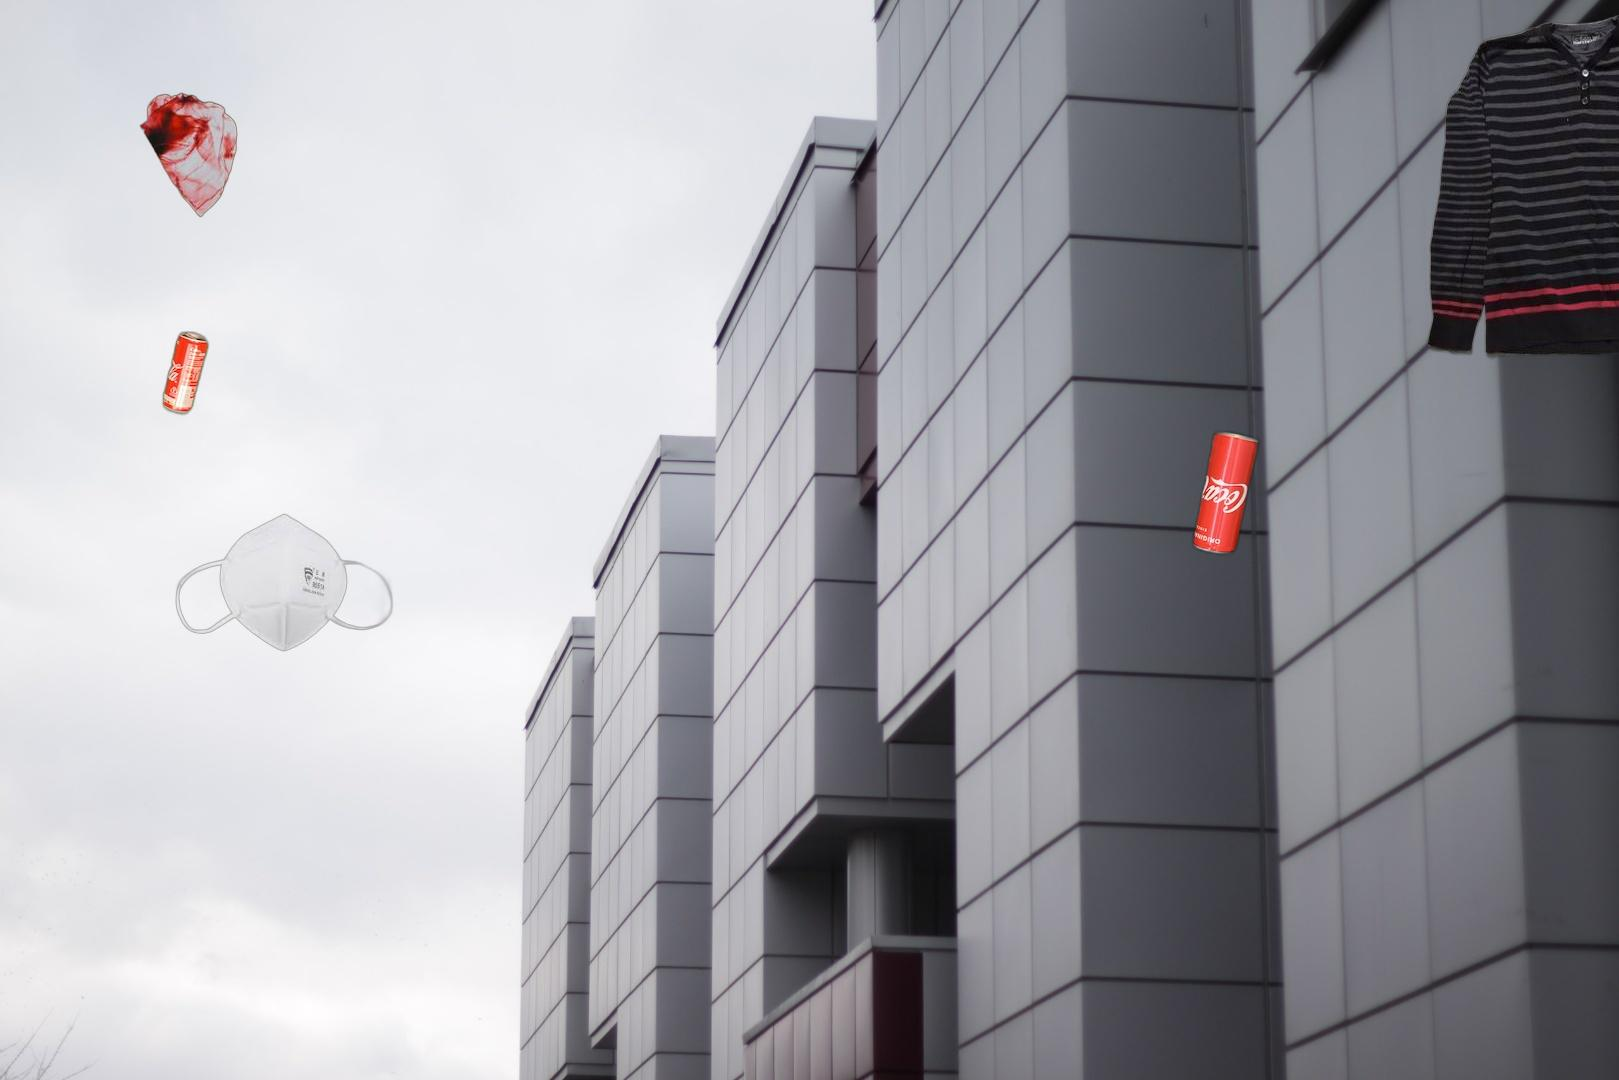clothes: (1424, 10, 1619, 363)
metal-cans: (1187, 425, 1262, 560), (158, 325, 213, 419)
plastic-bag: (137, 90, 240, 218)
trash: (174, 511, 395, 655)
